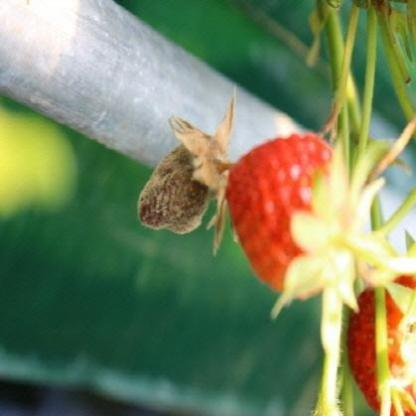Strawberry_Gray_Mold: (137, 93, 235, 257)
